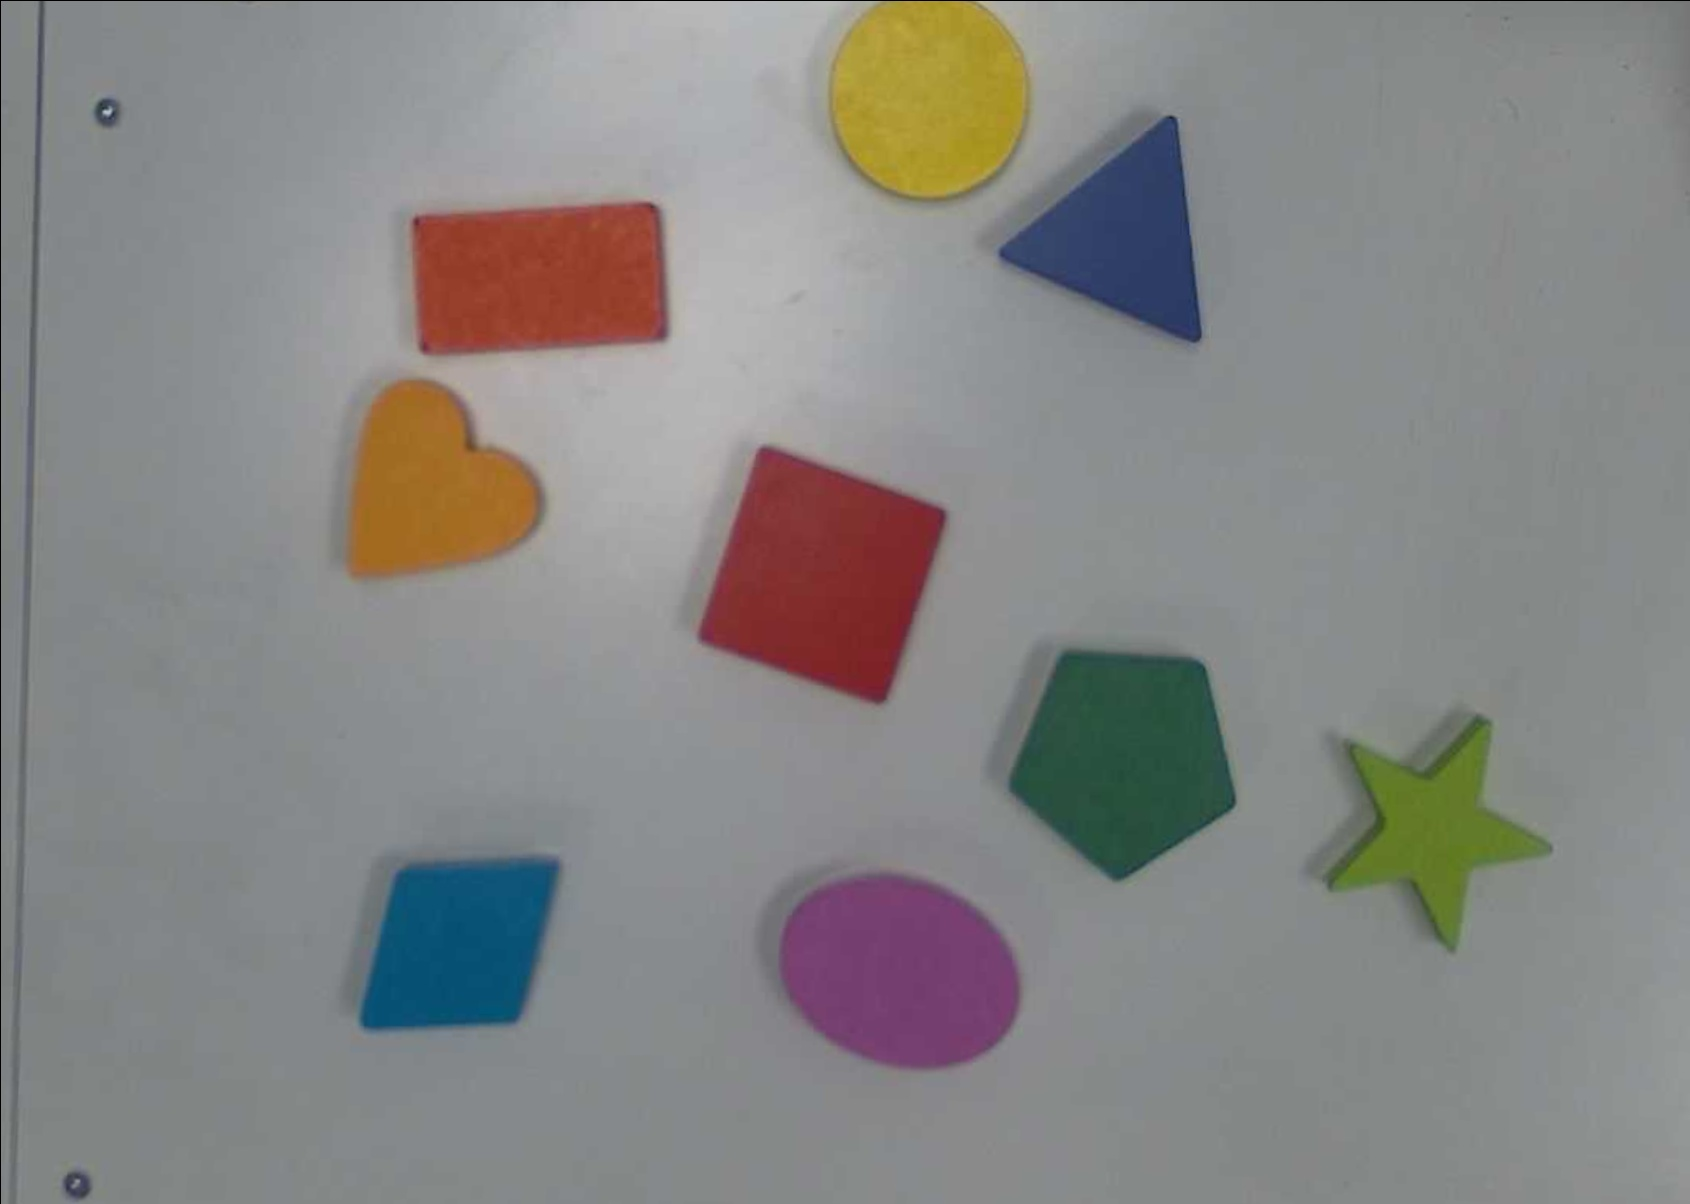Circle: (826, 0, 1032, 203)
Ellipse: (777, 869, 1024, 1070)
Heart: (347, 375, 542, 589)
Parallelogram: (356, 855, 559, 1033)
Pentagon: (1006, 649, 1239, 886)
Rectangle: (409, 199, 670, 360)
Square: (696, 444, 949, 705)
Star: (1315, 709, 1560, 955)
Triangle: (994, 111, 1209, 345)
